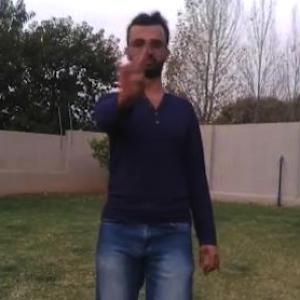takeoff-hand: (106, 46, 154, 102)
